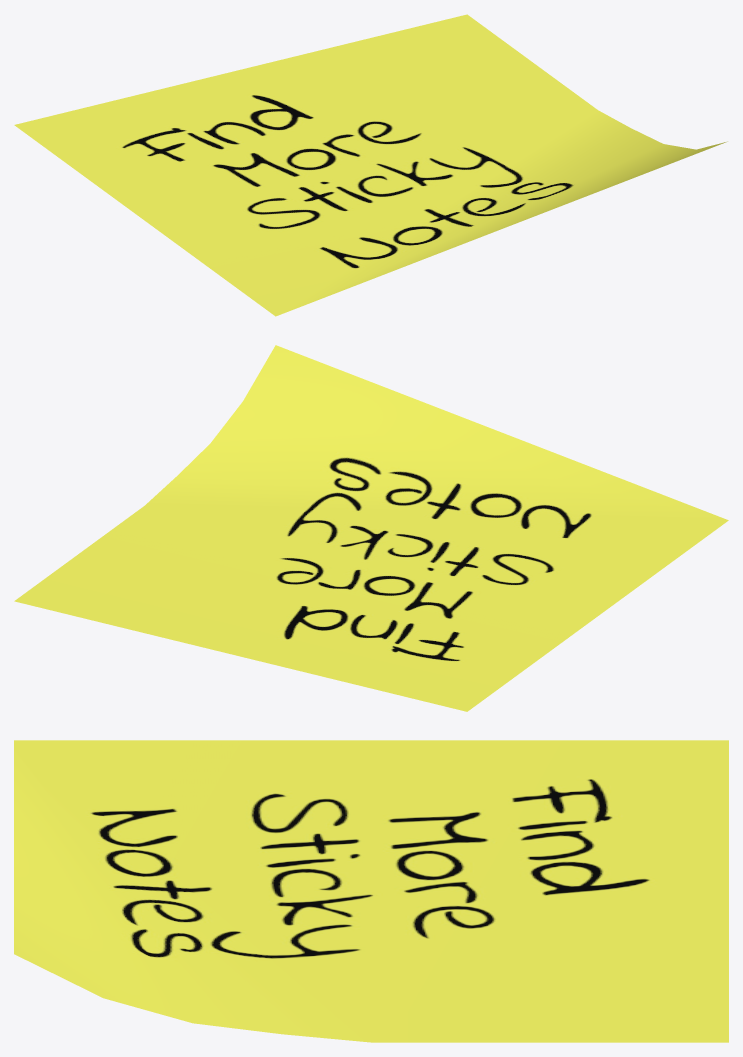
File: monitor-sticky-note.glb
3 views of the same model, one above another, from view 1: azimuth 30°, elevation 25°; view 2: azimuth 150°, elevation 25°; view 3: azimuth 270°, elevation 25° (orthographic). The views are drawn at different scales.
Visible parts, largest first — view 1: polySurface7; view 2: polySurface7; view 3: polySurface7.
Boxes of the visible parts, x1,y1,x2,y2 form: polySurface7: [14, 14, 727, 316]; polySurface7: [14, 345, 728, 711]; polySurface7: [14, 740, 728, 1042].
Bounding box in the file's own units: 1261 × 172 × 1261.
1 material, 1 textured.
